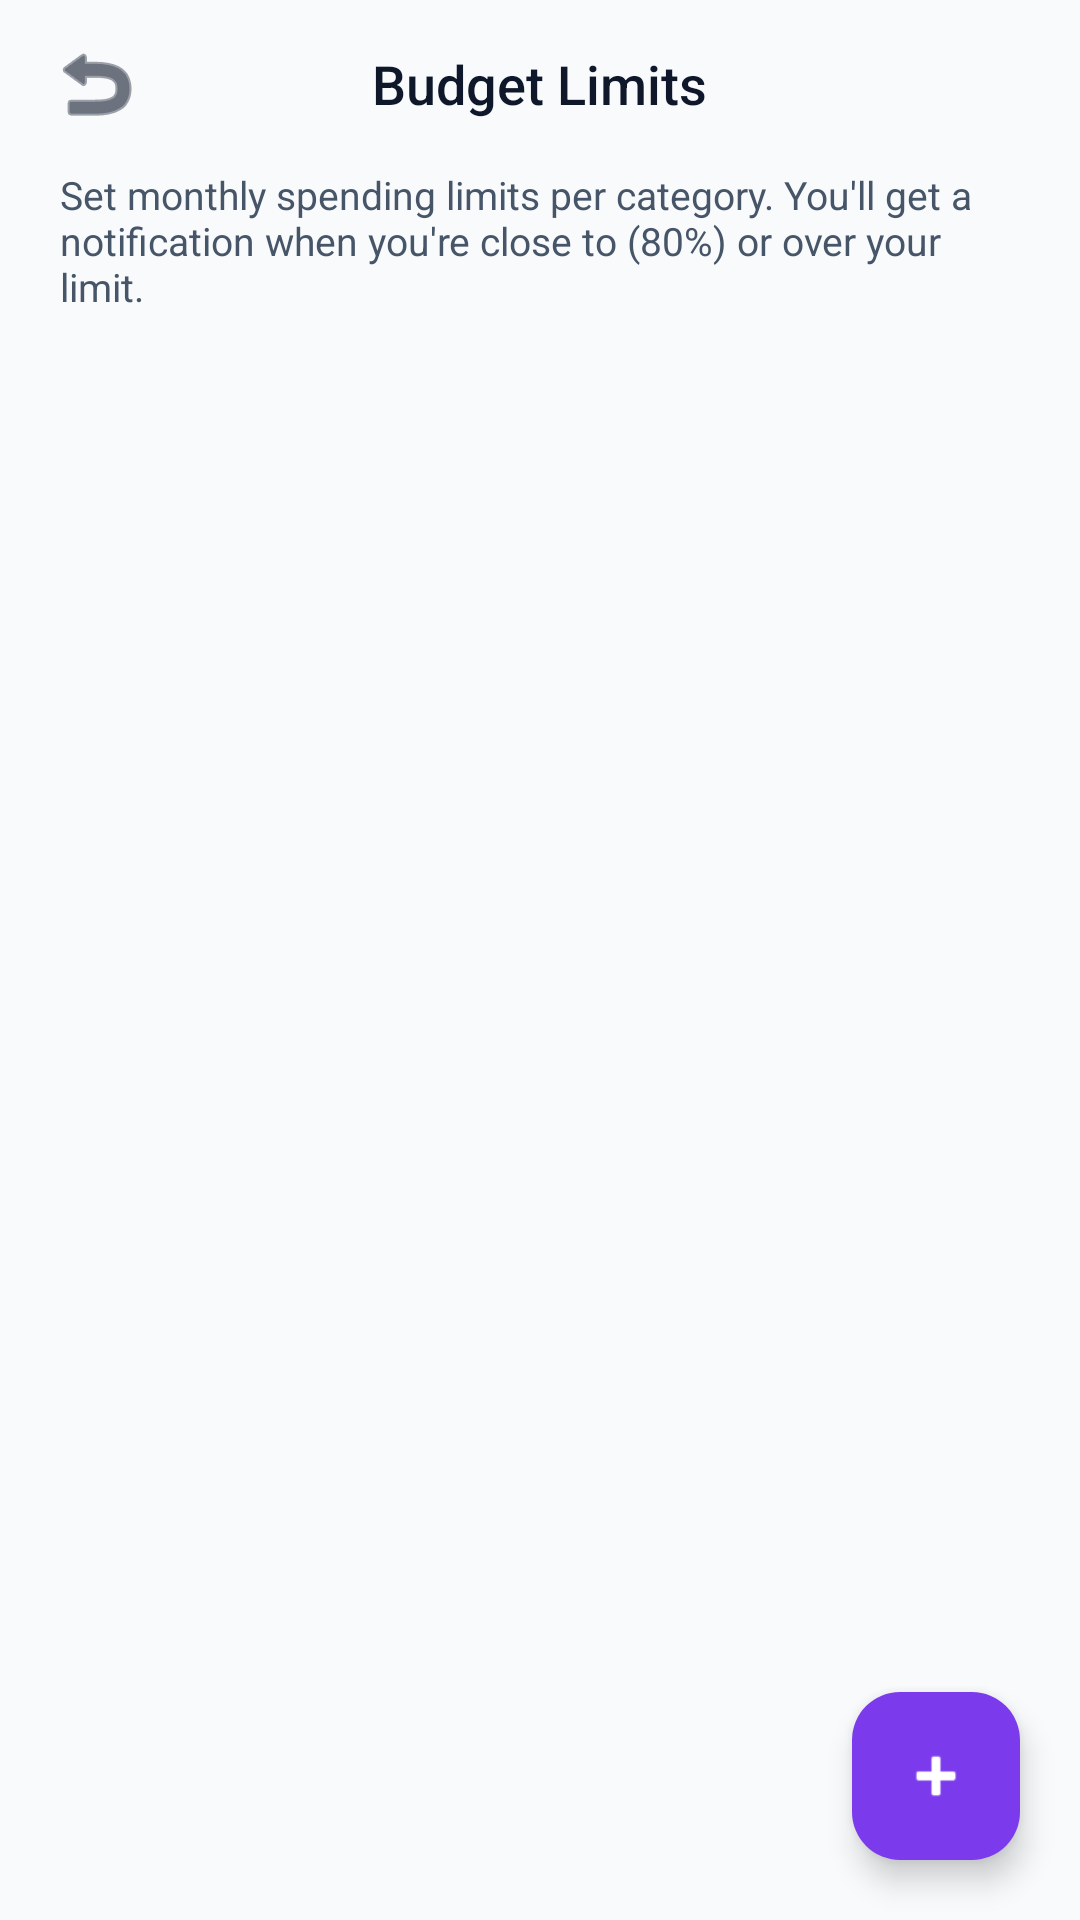

Icon click points for this 1080*1920 phone screenshot, format (x=x, y=y):
Add a budget limit: (x=936, y=1776)
Back: (x=97, y=84)
